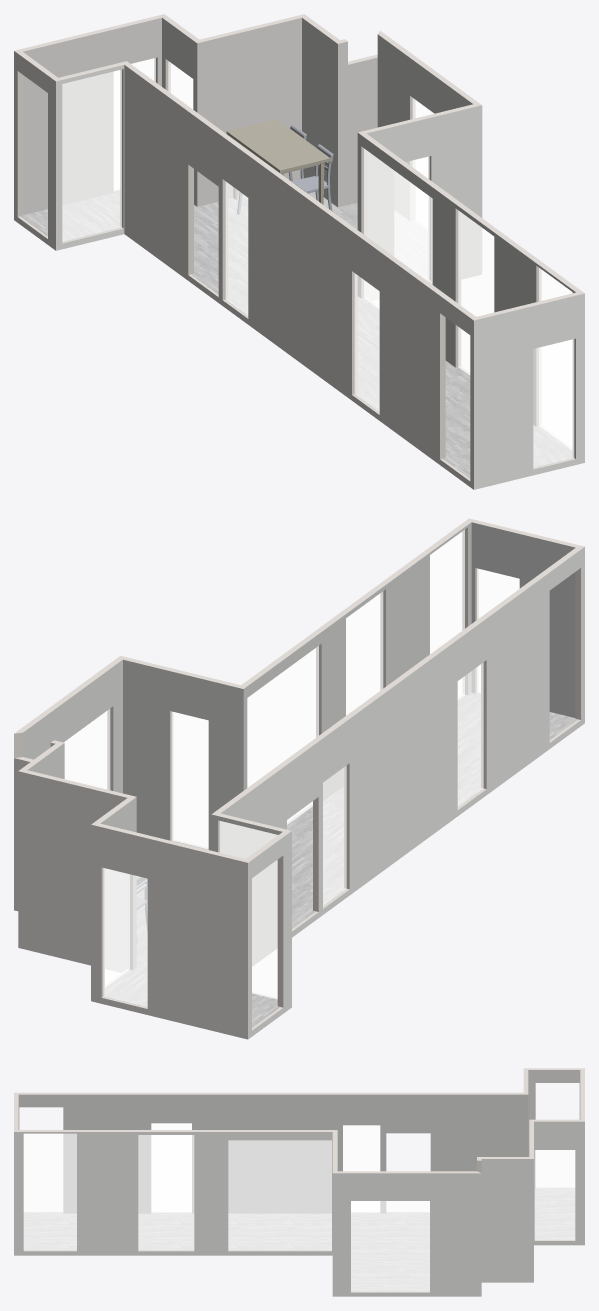
File: Couloir_210-216.glb
3 views of the same model, one above another, from view 1: azimuth 30°, elevation 25°; view 2: azimuth 150°, elevation 25°; view 3: azimuth 270°, elevation 25° (orthographic). The views are drawn at different scales.
Visible parts, largest first — view 1: wall_1, wall_24, wall_11, wall_22, wall_3, door_7, door_18, wall_26, floor_Dining_Room, floor_Other, door_1, door_12 (+26 smaller); view 2: wall_1, wall_6, wall_5, wall_18, wall_26, wall_34, door_1, door_12, floor_Other, door_0, door_11, wall_15 (+28 smaller); view 3: wall_14, wall_7, door_1, door_12, wall_0, floor_Dining_Room, floor_Other, door_2, door_13, wall_10, door_3, door_14 (+11 smaller).
Boxes of the visible parts, bbox=[...] form: wall_1: bbox=[124, 65, 473, 489]; wall_24: bbox=[23, 18, 161, 214]; wall_11: bbox=[474, 293, 584, 489]; wall_22: bbox=[197, 18, 301, 206]; wall_3: bbox=[366, 105, 482, 284]; door_7: bbox=[62, 70, 121, 241]; door_18: bbox=[62, 70, 121, 241]; wall_26: bbox=[357, 133, 575, 425]; floor_Dining_Room: bbox=[21, 190, 357, 315]; floor_Other: bbox=[355, 297, 573, 478]; door_1: bbox=[364, 149, 432, 284]; door_12: bbox=[364, 149, 432, 283]; wall_1: bbox=[221, 547, 584, 966]; wall_6: bbox=[91, 824, 247, 1039]; wall_5: bbox=[18, 771, 126, 965]; wall_18: bbox=[123, 659, 243, 850]; wall_26: bbox=[243, 522, 471, 800]; wall_34: bbox=[471, 522, 575, 717]; door_1: bbox=[247, 646, 318, 824]; door_12: bbox=[247, 646, 318, 824]; floor_Other: bbox=[287, 693, 577, 882]; door_0: bbox=[103, 868, 147, 1006]; door_11: bbox=[103, 868, 147, 1006]; wall_15: bbox=[212, 546, 584, 931]; wall_14: bbox=[18, 1094, 528, 1213]; wall_7: bbox=[14, 1132, 332, 1255]; door_1: bbox=[228, 1140, 331, 1249]; door_12: bbox=[228, 1140, 331, 1249]; wall_0: bbox=[332, 1173, 481, 1296]; floor_Dining_Room: bbox=[351, 1188, 574, 1291]; floor_Other: bbox=[24, 1213, 331, 1249]; door_2: bbox=[351, 1201, 429, 1291]; door_13: bbox=[351, 1201, 429, 1291]; wall_10: bbox=[481, 1159, 533, 1282]; door_3: bbox=[138, 1135, 193, 1249]; door_14: bbox=[138, 1135, 193, 1249].
Bounding box in the file's own units: 5.31 × 2.91 × 12.2.
33 materials, 2 textured.
